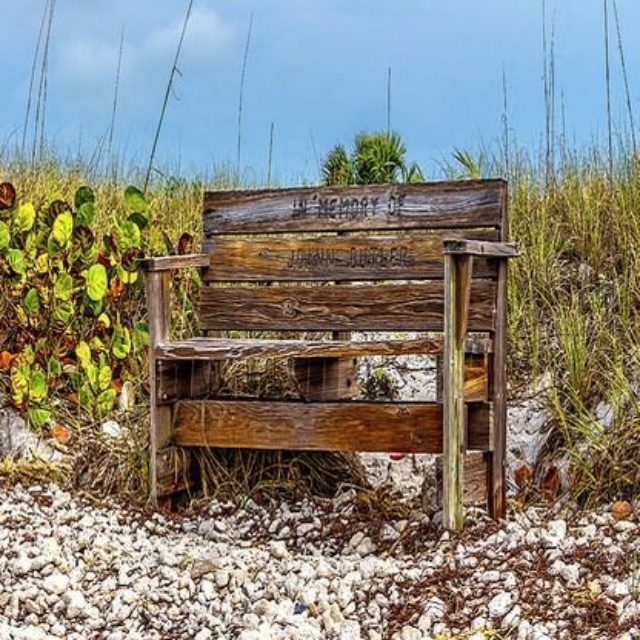obstacle: (135, 188, 557, 548)
